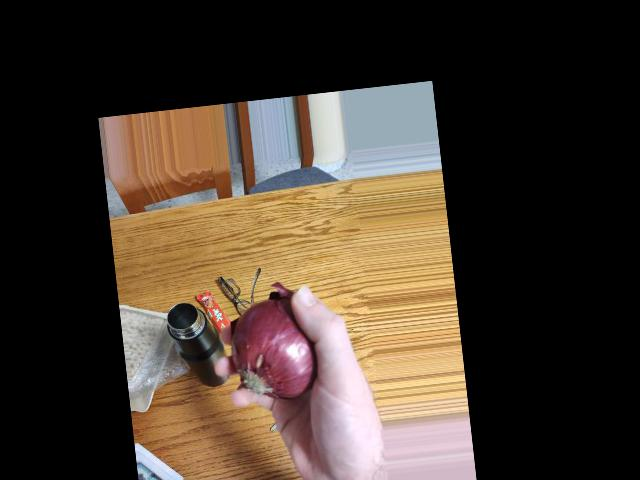onion: (240, 304, 330, 397)
